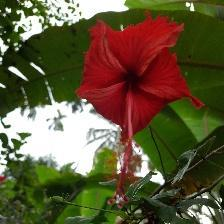hibiscus: (76, 10, 206, 208)
